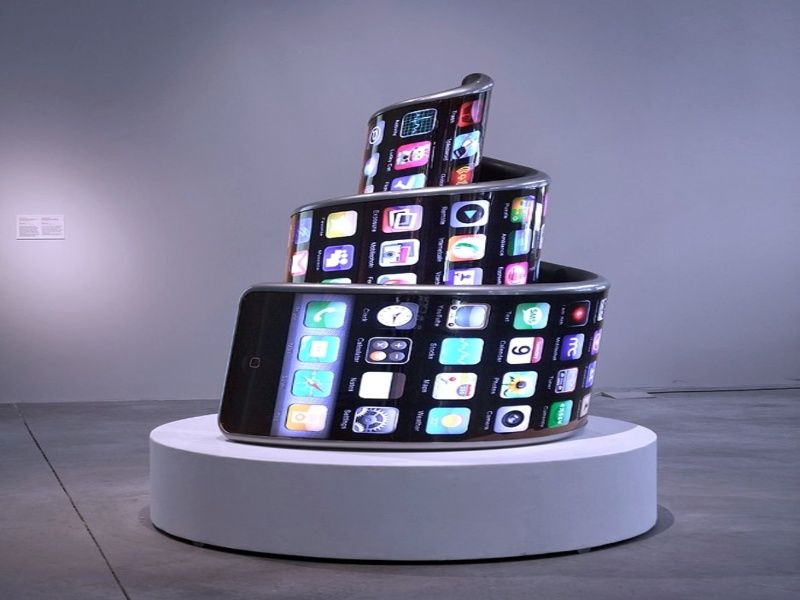Mobile Phone: (226, 277, 632, 446), (254, 168, 608, 310)
